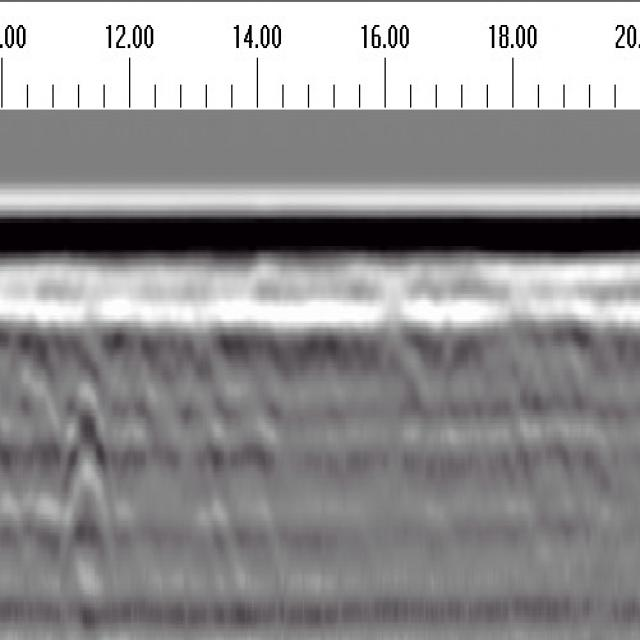loose: (42, 345, 126, 593)
